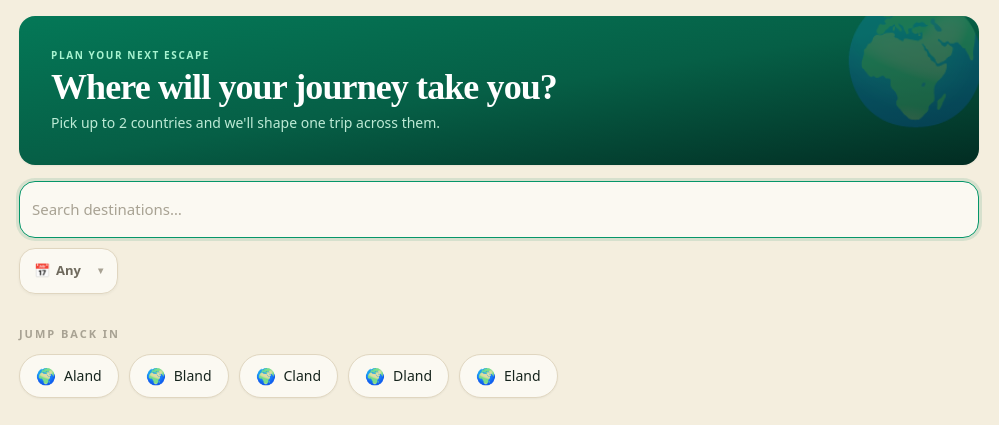
DestinationPicker › multi-select › caps the selection and disables further chips
The width and height of the screenshot is (999, 425).
Click the button "🌍 Aland".
click(69, 376)  # box top-left (19, 354), bottom-right (119, 398)
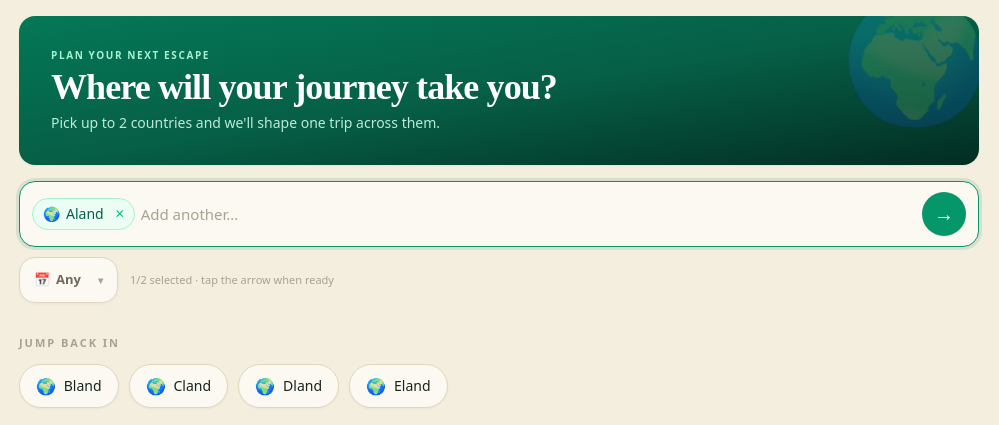
Click the button "🌍 Bland".
click(69, 386)  # box top-left (19, 364), bottom-right (119, 408)
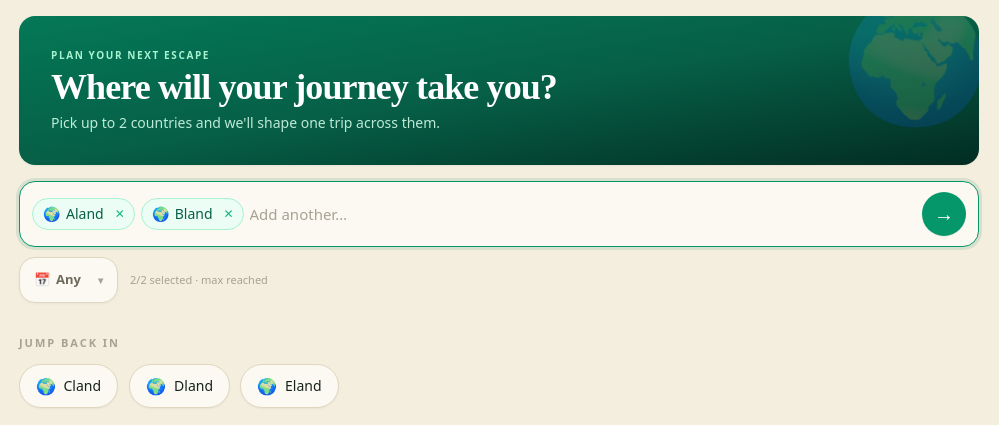
Expected: the text "2/2 selected · max reached" is shown, top-left (130, 272), bottom-right (268, 288)
Expected: the button "🌍 Cland" is disabled, top-left (19, 364), bottom-right (119, 408)
